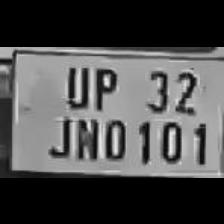0: (99, 113, 129, 159), (155, 114, 183, 162)
1: (130, 114, 154, 162), (186, 116, 210, 164)
2: (170, 66, 200, 114)
3: (141, 64, 171, 112)
J: (44, 112, 72, 158)
N: (70, 113, 98, 159)
P: (88, 61, 120, 109)
U: (60, 58, 90, 108)
